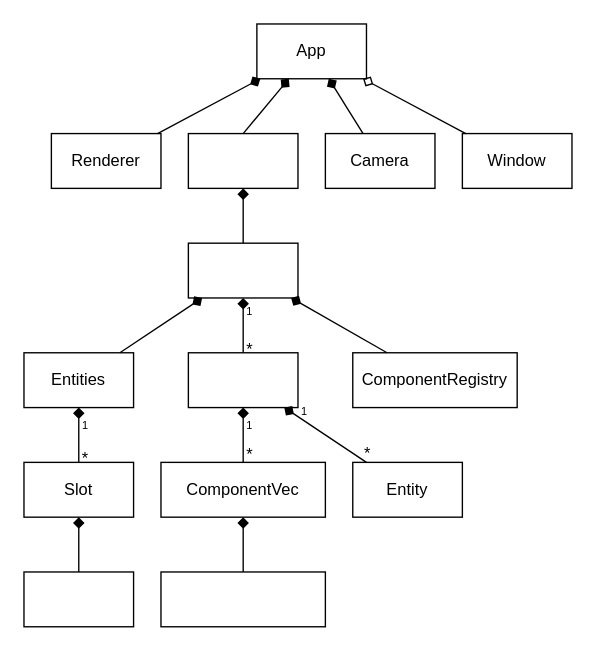
Image size: 596x651. Some labels were removed from this diagram. Each missing label, with the centre of its shape:
"Archetype" belongs at point 242,379.
"ComponentInfo" belongs at point 242,599.
"Location" belongs at point 78,599.
"Simulation" belongs at point 242,160.
"World" belongs at point 242,270.
